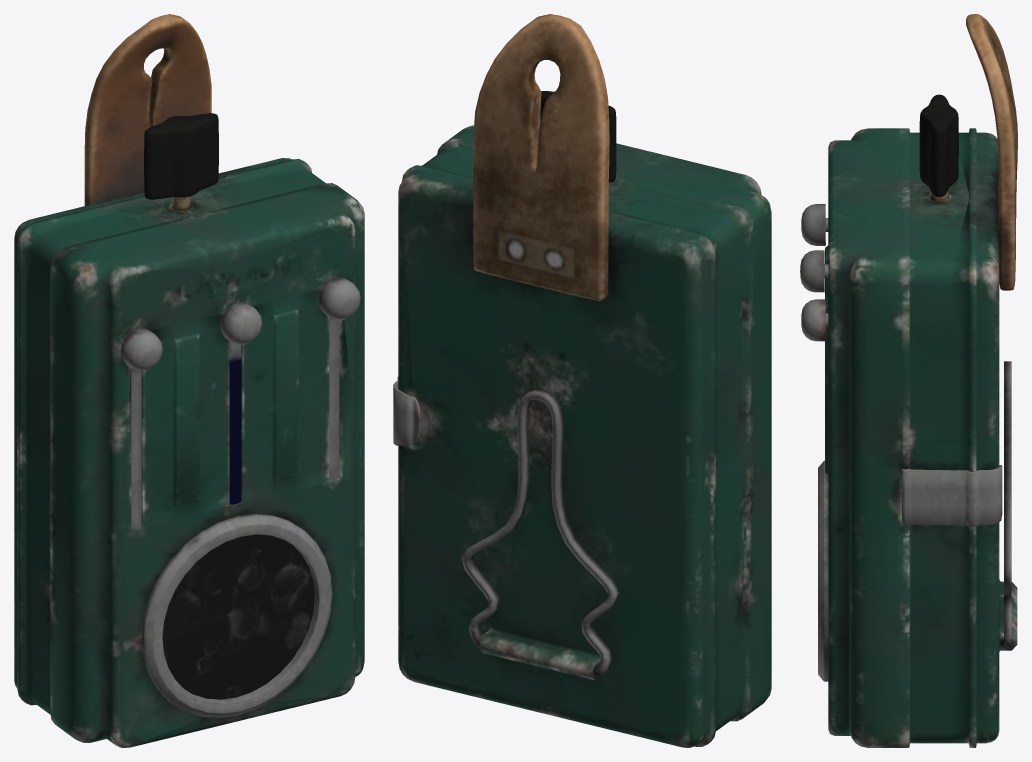
File: signal_flashlight.glb
The picture shows the model from 3 angles, left to right: view 1: azimuth 30°, elevation 25°; view 2: azimuth 150°, elevation 25°; view 3: azimuth 270°, elevation 25°; orthographic projection. The views are drawn at different scales.
Visible parts, largest first — view 1: signal_flashlight, signal_flashlight_switch, signal_flashlight_signal_b, signal_flashlight_signal_r, signal_flashlight_signal_g; view 2: signal_flashlight, signal_flashlight_clip, signal_flashlight_switch; view 3: signal_flashlight, signal_flashlight_switch, signal_flashlight_clip, signal_flashlight_signal_b, signal_flashlight_signal_r, signal_flashlight_signal_g.
Boxes of the visible parts, <box> form: signal_flashlight: <box>14,14,364,747</box>; signal_flashlight_switch: <box>144,113,218,210</box>; signal_flashlight_signal_b: <box>220,302,262,504</box>; signal_flashlight_signal_r: <box>318,278,360,480</box>; signal_flashlight_signal_g: <box>120,328,162,528</box>; signal_flashlight: <box>393,14,771,747</box>; signal_flashlight_clip: <box>461,389,619,676</box>; signal_flashlight_switch: <box>540,91,616,182</box>; signal_flashlight: <box>818,14,1017,747</box>; signal_flashlight_switch: <box>919,94,958,201</box>; signal_flashlight_clip: <box>1004,361,1011,647</box>; signal_flashlight_signal_b: <box>800,250,828,292</box>; signal_flashlight_signal_r: <box>801,299,828,341</box>; signal_flashlight_signal_g: <box>801,204,828,245</box>.
Size of the model in its own units: 0.071 by 0.1499 by 0.0445.
2 materials, 2 textured.
